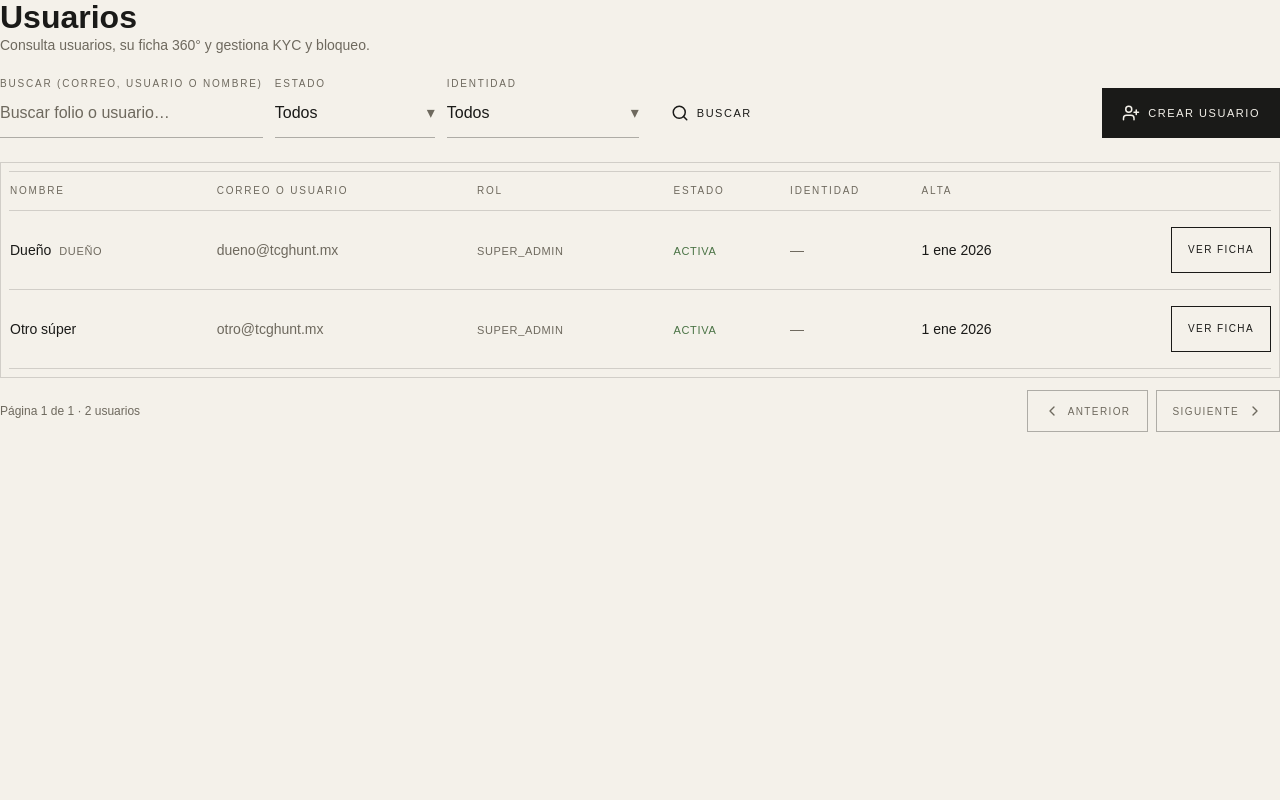
§43.20.6 · la cuenta del dueño en Usuarios: «Dueño» junto al nombre y la nota del propio dueño › `ownerTag` «Dueño» en la fila de la lista y en la cabecera del detalle, en `text-muted` sin color; otra cuenta ⇒ sin etiqueta
Expected: the text with test id "m6-owner-tag" is shown, [59,241,102,261]
Expected: the text with test id "m6-owner-tag" reads "Dueño", [59,245,102,257]
Click the button "Ver ficha" in the row of "dueno@tcghunt.mx": (1221, 250) [1171,227,1271,273]
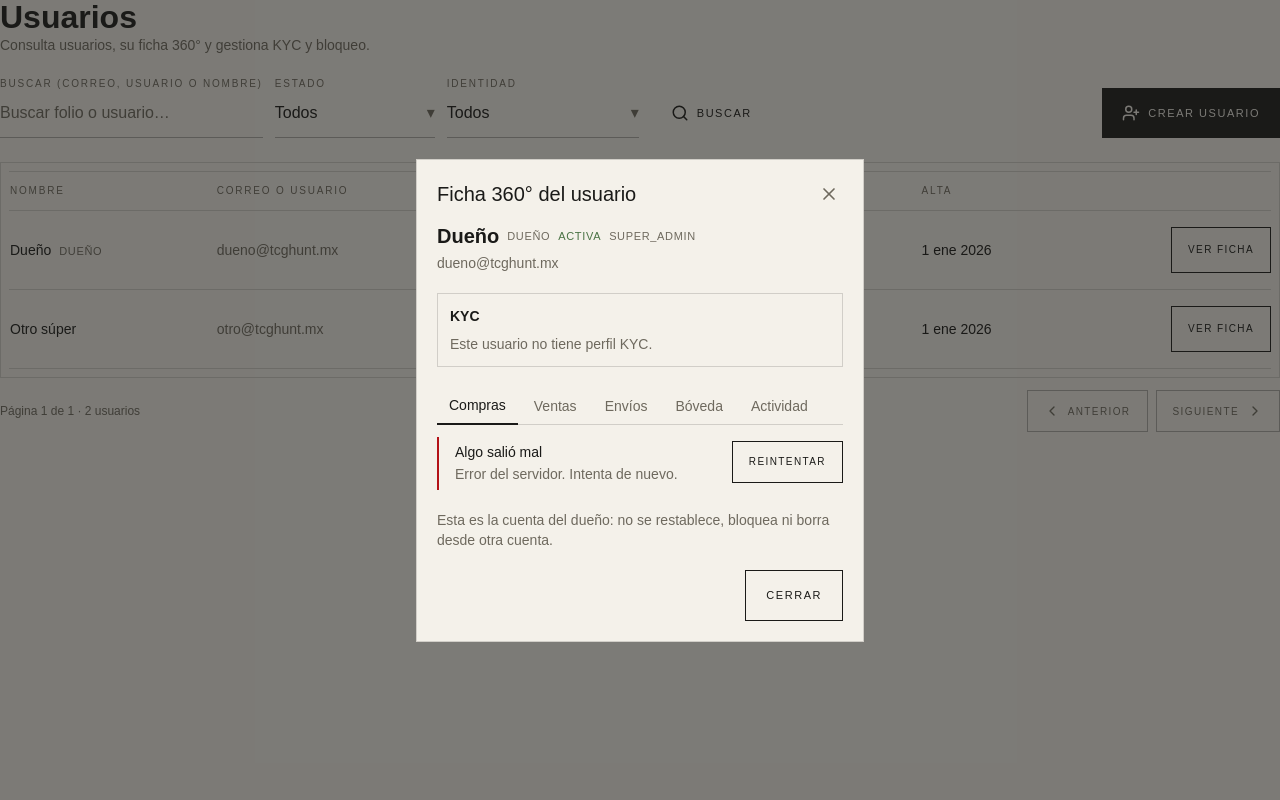
Expected: the text with test id "m6-owner-account" is shown, [437,510,843,550]
